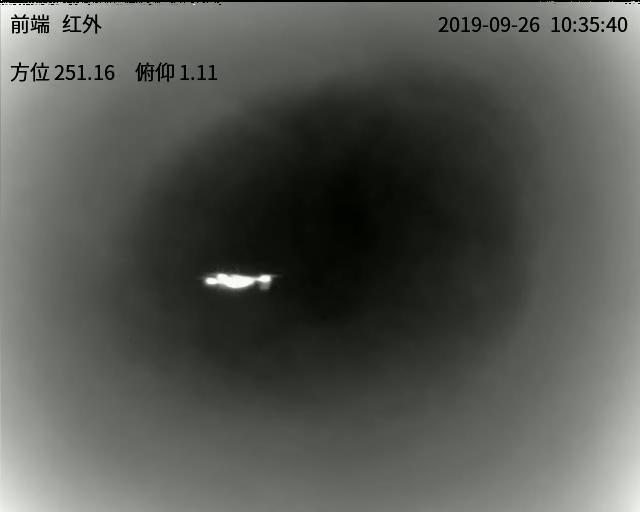uav: (200, 268, 278, 297)
